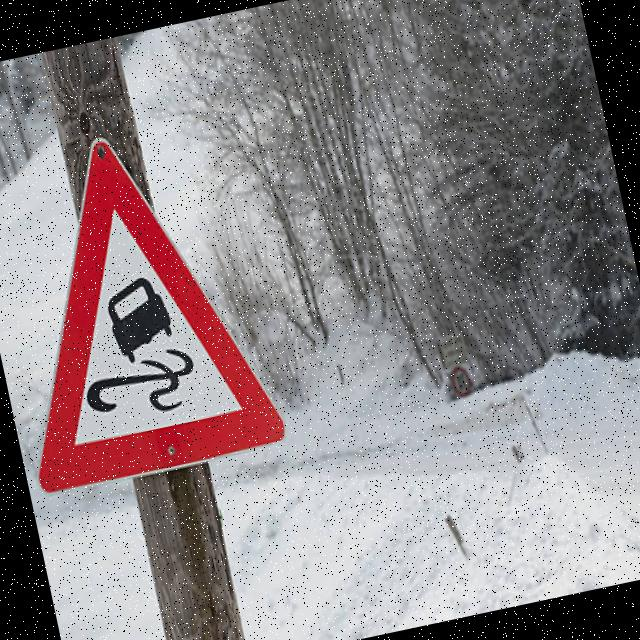road_slippery: (0, 113, 289, 503)
